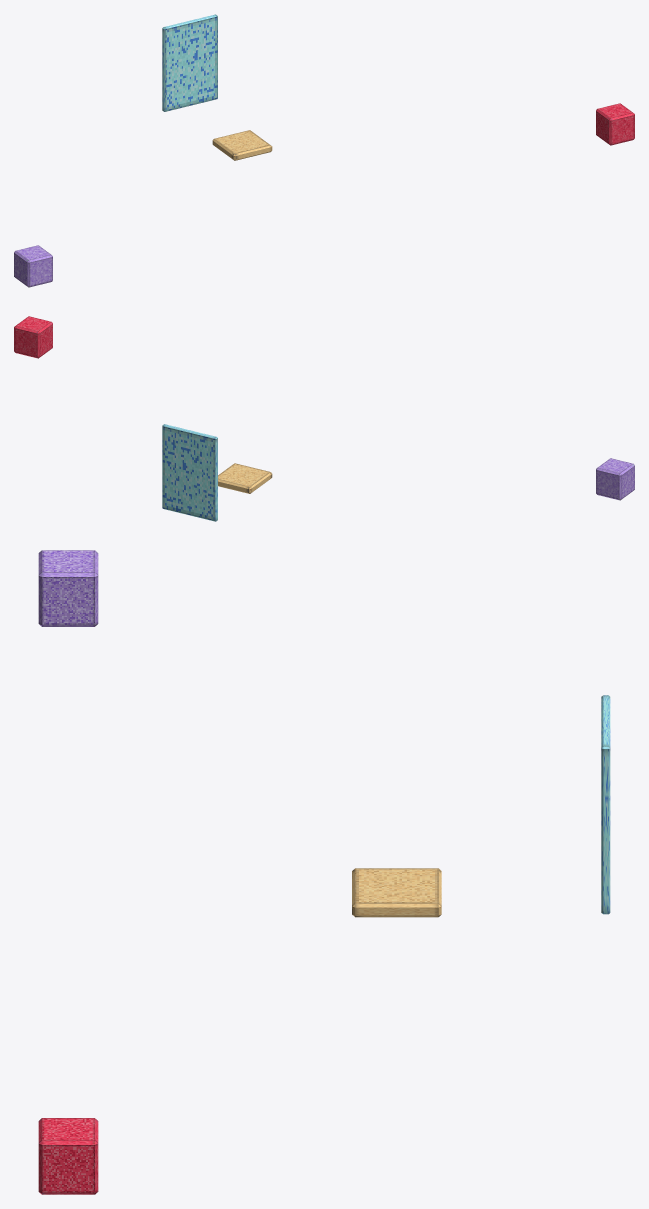
The model's file is marker_hub.fbx.
3 renders of one model, top to bottom at view 1: azimuth 30°, elevation 25°; view 2: azimuth 150°, elevation 25°; view 3: azimuth 270°, elevation 25°, orthographic. The views are drawn at different scales.
Visible parts, largest first — view 1: marker_hub; view 2: marker_hub; view 3: marker_hub.
Part boxes in pixels (bbox=[...]): marker_hub: bbox=[14, 14, 634, 287]; marker_hub: bbox=[14, 316, 634, 521]; marker_hub: bbox=[38, 550, 610, 1194].
Size of the model in its own units: 94 by 13.2 by 38.3.
2 materials, 2 textured.
